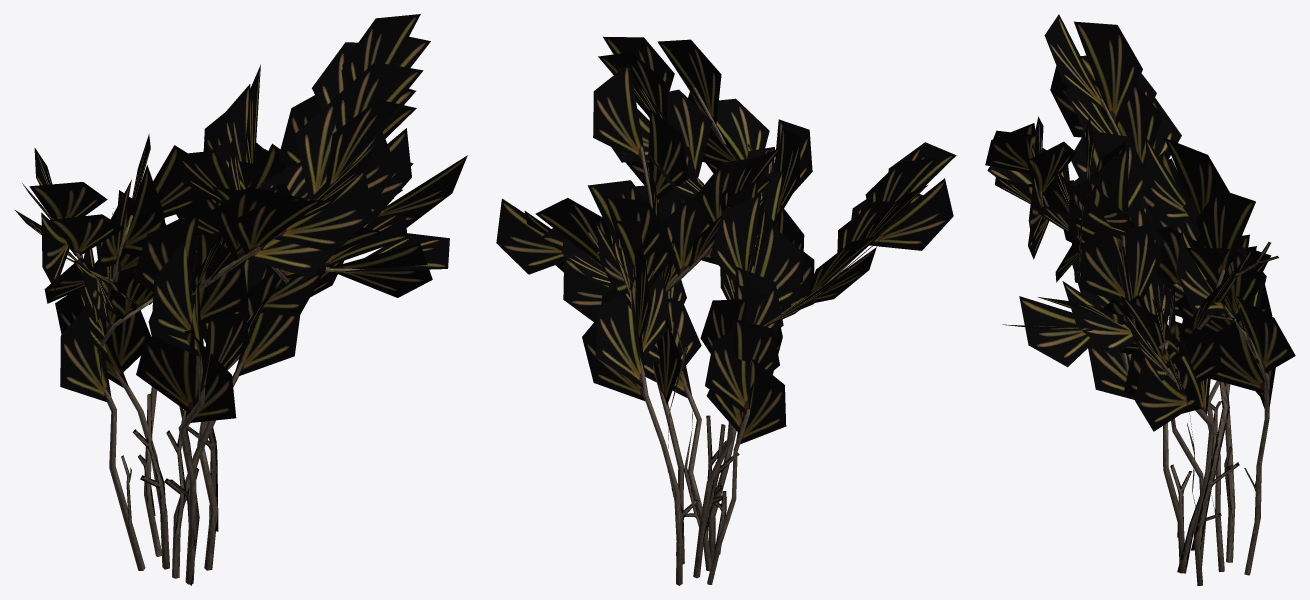
The model's file is prop_bush_rooibos_c.glb.
The picture shows the model from 3 angles, left to right: view 1: azimuth 30°, elevation 25°; view 2: azimuth 150°, elevation 25°; view 3: azimuth 270°, elevation 25°; orthographic projection. The views are drawn at different scales.
Parts seen in each view (by area): view 1: wild_rooibos_bush_e; view 2: wild_rooibos_bush_e; view 3: wild_rooibos_bush_e.
Boxes of the visible parts, x1,y1,x2,y2 form: wild_rooibos_bush_e: [15, 14, 467, 585]; wild_rooibos_bush_e: [496, 36, 956, 585]; wild_rooibos_bush_e: [985, 14, 1295, 585].
Size of the model in its own units: 0.2776 by 0.3062 by 0.1657.
3 materials, 3 textured.
